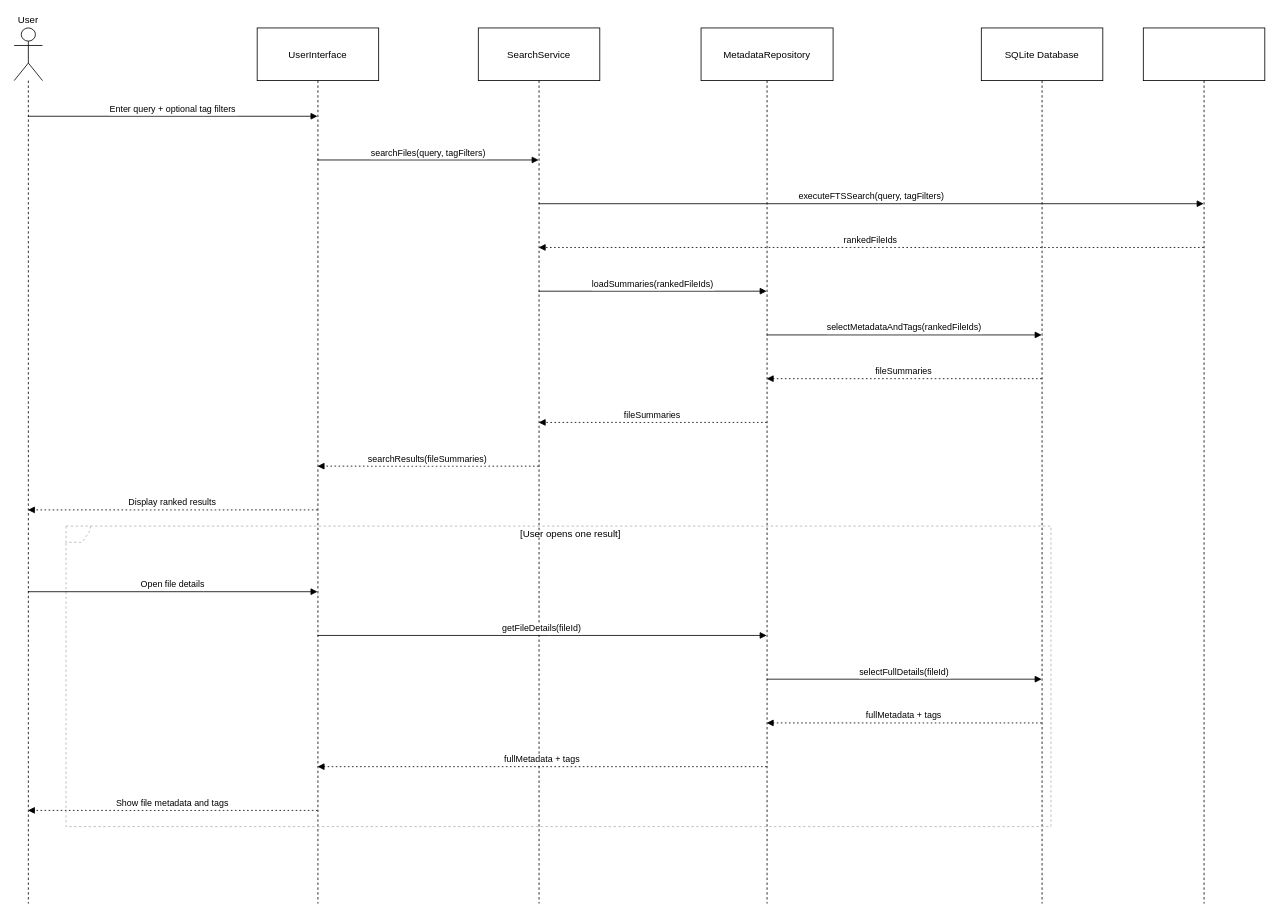
This 1279x918 diagram has some shape labels left out. Here are the shapes that lost their labels. From the top down, the box of each, then its label:
(1143, 27, 1265, 904): SQLite FTS5
(65, 525, 1051, 827): opt
